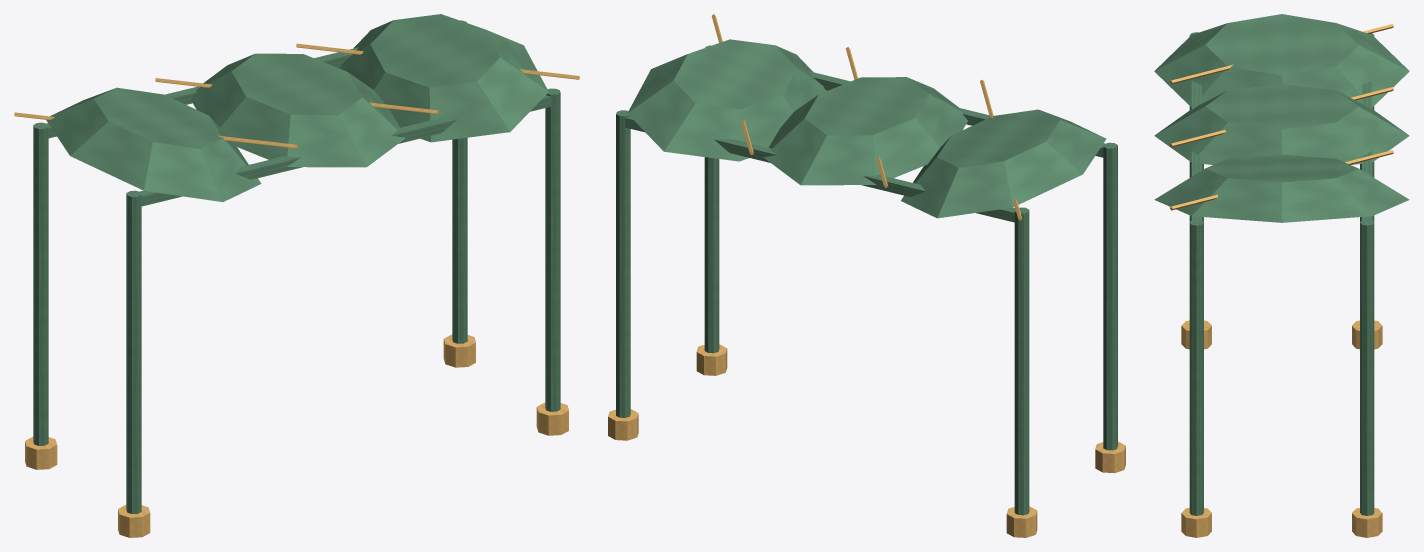
File: atlas100-s001-a08.glb
The picture shows the model from 3 angles, left to right: view 1: azimuth 30°, elevation 25°; view 2: azimuth 150°, elevation 25°; view 3: azimuth 270°, elevation 25°; orthographic projection. The views are drawn at different scales.
Visible parts, largest first — view 1: atlas100-s001-a08:part-014, atlas100-s001-a08:part-012, atlas100-s001-a08:part-010, atlas100-s001-a08:part-000, atlas100-s001-a08:part-002, atlas100-s001-a08:part-006, atlas100-s001-a08:part-004, atlas100-s001-a08:part-009, atlas100-s001-a08:part-005, atlas100-s001-a08:part-001, atlas100-s001-a08:part-007, atlas100-s001-a08:part-003 (+1 smaller); view 2: atlas100-s001-a08:part-014, atlas100-s001-a08:part-012, atlas100-s001-a08:part-010, atlas100-s001-a08:part-000, atlas100-s001-a08:part-002, atlas100-s001-a08:part-004, atlas100-s001-a08:part-006, atlas100-s001-a08:part-008, atlas100-s001-a08:part-001, atlas100-s001-a08:part-007, atlas100-s001-a08:part-005, atlas100-s001-a08:part-003 (+1 smaller); view 3: atlas100-s001-a08:part-010, atlas100-s001-a08:part-012, atlas100-s001-a08:part-014, atlas100-s001-a08:part-004, atlas100-s001-a08:part-006, atlas100-s001-a08:part-005, atlas100-s001-a08:part-007, atlas100-s001-a08:part-009, atlas100-s001-a08:part-008, atlas100-s001-a08:part-013, atlas100-s001-a08:part-001, atlas100-s001-a08:part-003 (+2 smaller).
Part boxes in pixels (x1,y1,x2,y2): atlas100-s001-a08:part-014: (338, 14, 548, 142); atlas100-s001-a08:part-012: (190, 53, 405, 167); atlas100-s001-a08:part-010: (46, 87, 261, 201); atlas100-s001-a08:part-000: (33, 122, 48, 445); atlas100-s001-a08:part-002: (126, 190, 141, 513); atlas100-s001-a08:part-006: (545, 88, 560, 411); atlas100-s001-a08:part-004: (452, 20, 467, 343); atlas100-s001-a08:part-009: (139, 95, 550, 206); atlas100-s001-a08:part-005: (443, 334, 475, 367); atlas100-s001-a08:part-001: (25, 436, 57, 469); atlas100-s001-a08:part-007: (536, 402, 568, 435); atlas100-s001-a08:part-003: (118, 505, 150, 537); atlas100-s001-a08:part-014: (627, 39, 827, 161); atlas100-s001-a08:part-012: (763, 77, 967, 185); atlas100-s001-a08:part-010: (901, 109, 1106, 218); atlas100-s001-a08:part-000: (1014, 207, 1029, 515); atlas100-s001-a08:part-002: (1103, 142, 1117, 450); atlas100-s001-a08:part-004: (616, 110, 630, 417); atlas100-s001-a08:part-006: (704, 45, 719, 353); atlas100-s001-a08:part-008: (625, 116, 1015, 222); atlas100-s001-a08:part-001: (1006, 506, 1037, 537); atlas100-s001-a08:part-007: (696, 344, 727, 375); atlas100-s001-a08:part-005: (608, 409, 638, 440); atlas100-s001-a08:part-003: (1095, 441, 1125, 473); atlas100-s001-a08:part-010: (1154, 14, 1409, 107); atlas100-s001-a08:part-012: (1154, 83, 1409, 164); atlas100-s001-a08:part-014: (1154, 154, 1409, 222); atlas100-s001-a08:part-004: (1360, 219, 1374, 515); atlas100-s001-a08:part-006: (1189, 219, 1203, 515); atlas100-s001-a08:part-005: (1352, 507, 1382, 537); atlas100-s001-a08:part-007: (1181, 507, 1211, 537); atlas100-s001-a08:part-009: (1191, 81, 1201, 220); atlas100-s001-a08:part-008: (1362, 81, 1372, 220); atlas100-s001-a08:part-013: (1170, 87, 1393, 147); atlas100-s001-a08:part-001: (1352, 320, 1382, 349); atlas100-s001-a08:part-003: (1181, 320, 1211, 349).
Bounding box in the file's own units: 5.63 × 4.4 × 3.
Materials: 2 (2 with a texture image).
